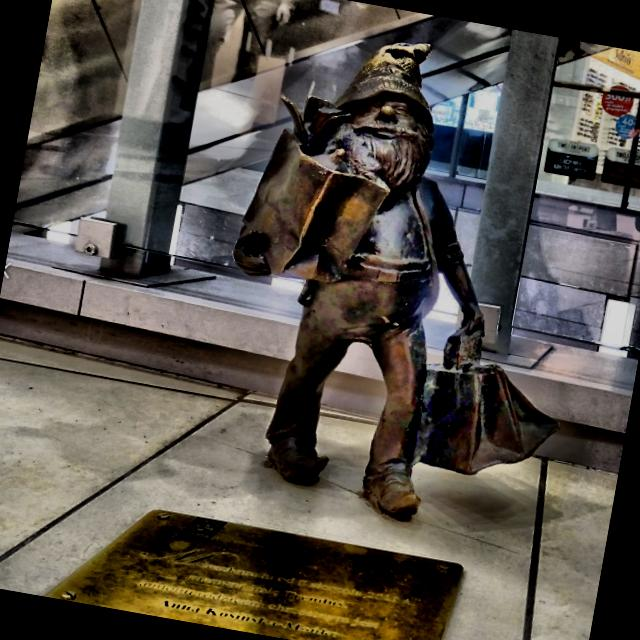Trendus: (232, 43, 557, 522)
